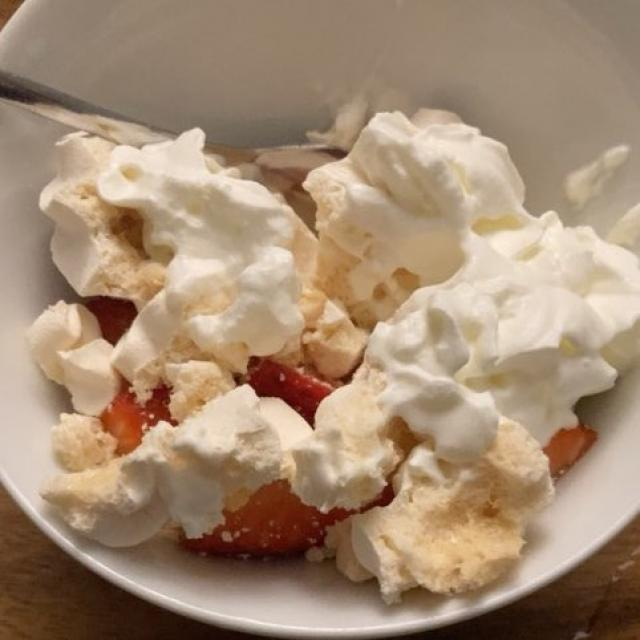meringue: (28, 150, 542, 582)
strawberries: (118, 357, 599, 560)
